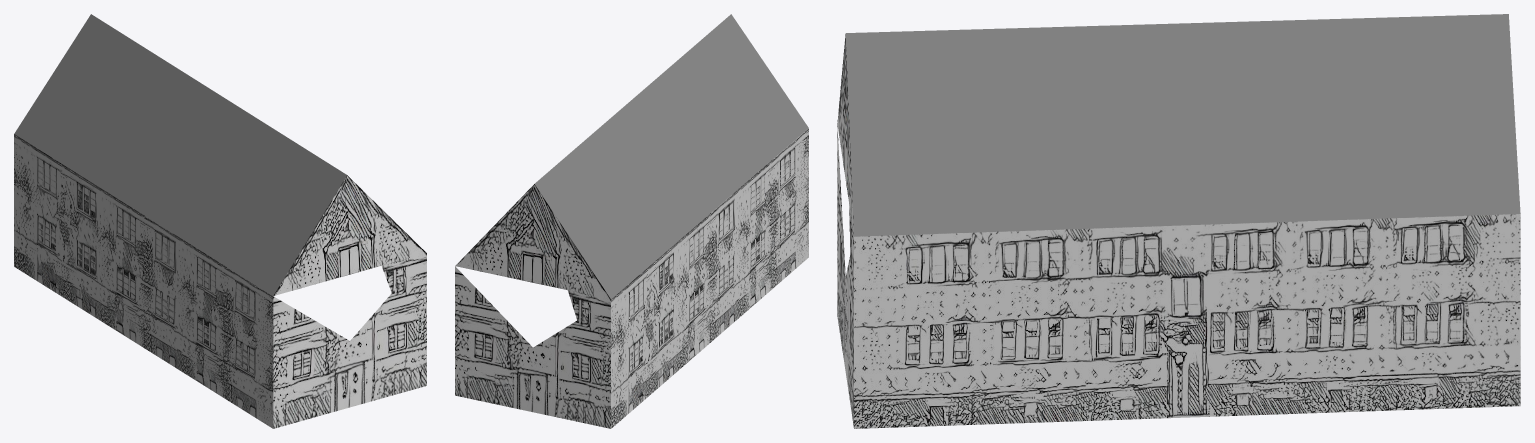
Rendered from Verwaltungsgebaeude_1.gltf.
3 renders of one model, left to right at view 1: azimuth 30°, elevation 25°; view 2: azimuth 150°, elevation 25°; view 3: azimuth 270°, elevation 25°, orthographic. The views are drawn at different scales.
Visible parts, largest first — view 1: Dach.1; view 2: Dach.1; view 3: Dach.1.
Boxes of the visible parts, x1,y1,x2,y2 form: Dach.1: (14, 14, 426, 428); Dach.1: (455, 14, 808, 428); Dach.1: (837, 14, 1520, 428).
Size of the model in its own units: 12.67 by 15.06 by 27.62.
4 materials, 3 textured.
